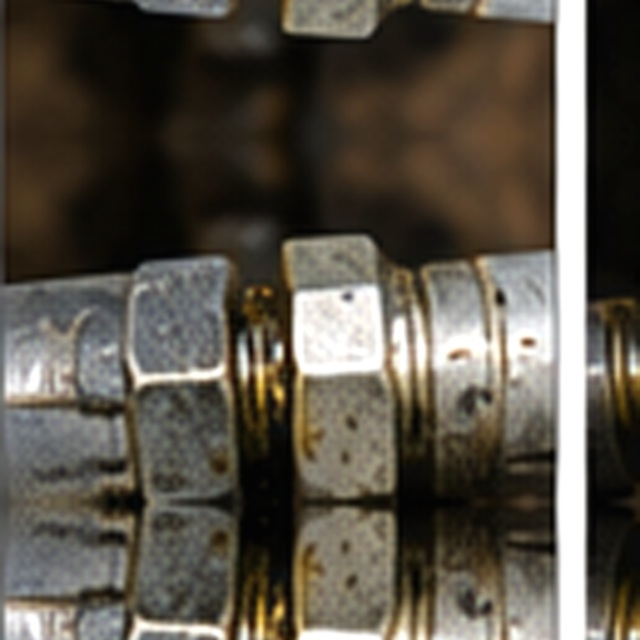hydraulic_oil_leak: (187, 239, 417, 435)
